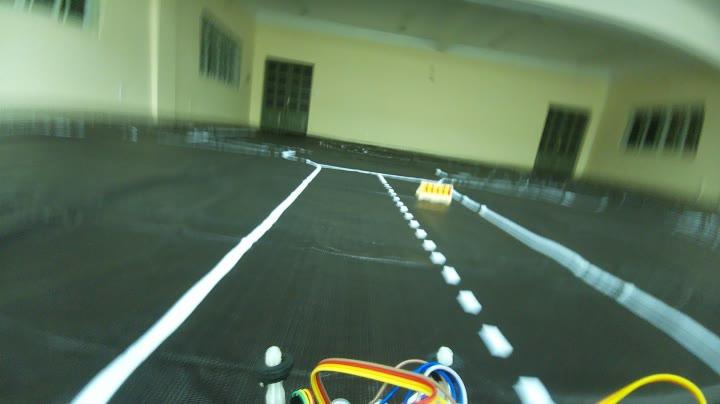roadblock: (408, 172, 458, 210)
